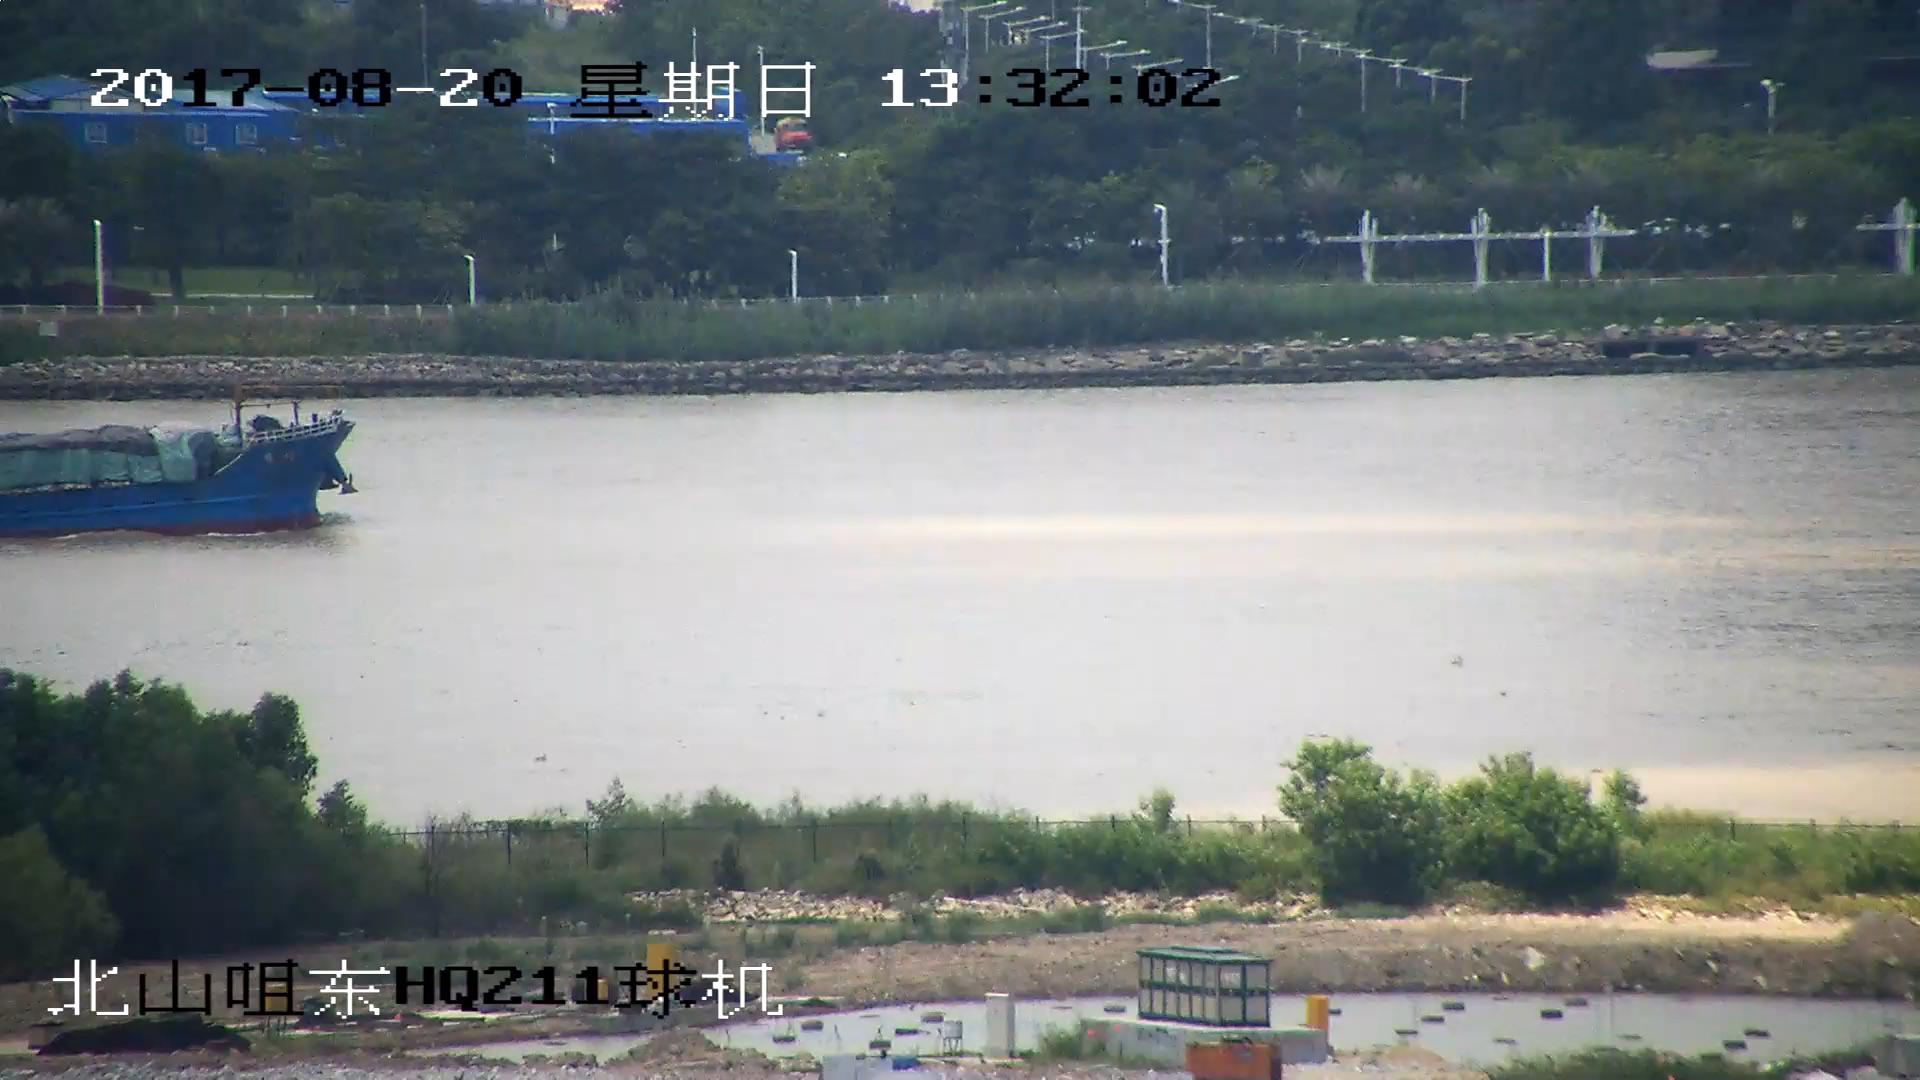general cargo ship: (1, 404, 353, 542)
